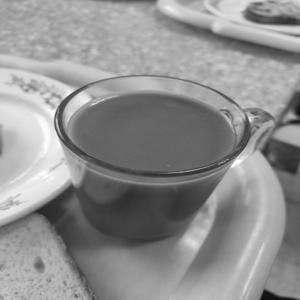coffee: (32, 54, 287, 260)
